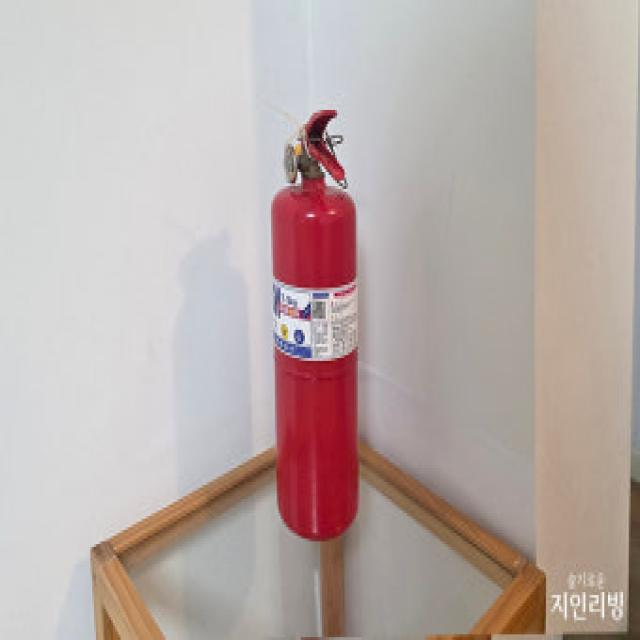pressure gauge: (284, 144, 296, 180)
